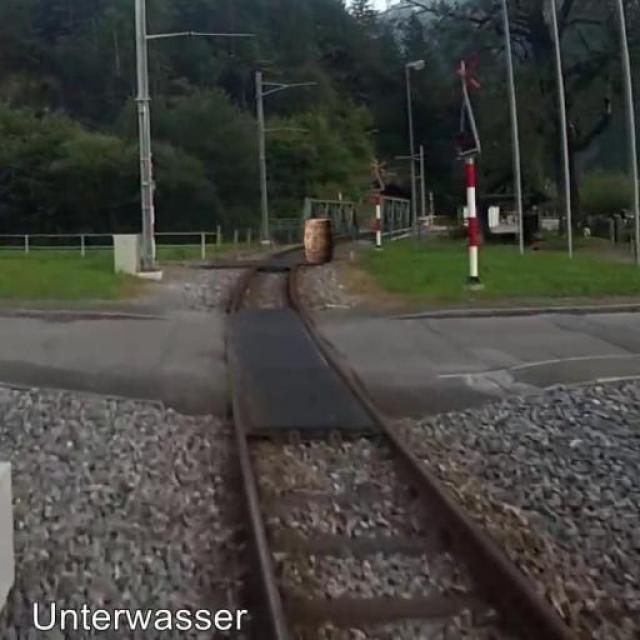Other_objects: (299, 214, 338, 274)
